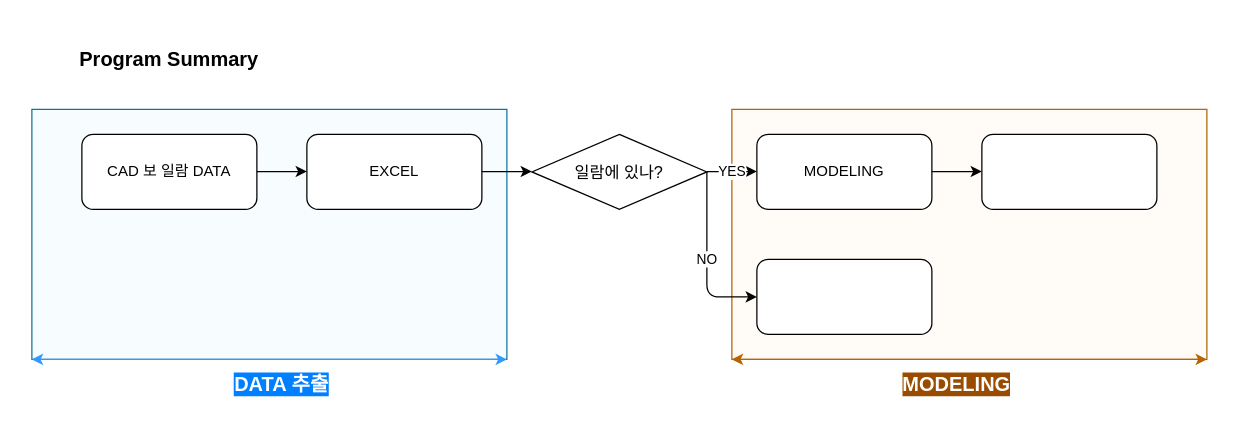
Image size: 1240x443. Some labels were removed from this diagram. Here are the shapes that lost their labels. From the top down, the centre of each, then its label:
[1069,171]: MODIFY
[844,296]: EXIT
